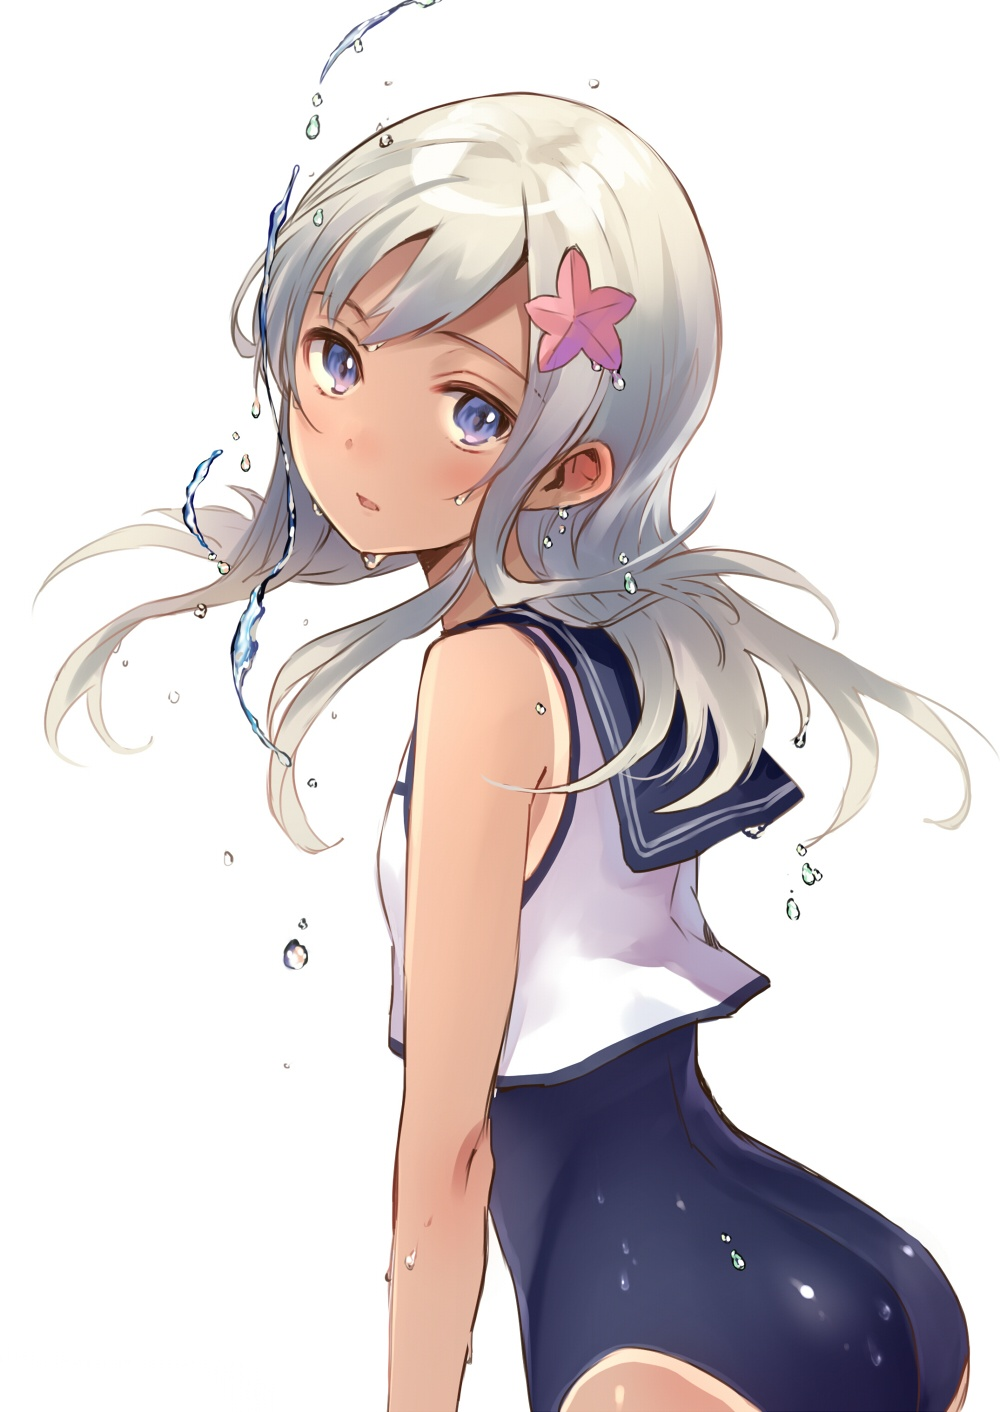纸片人正脸: (251, 75, 714, 577)
